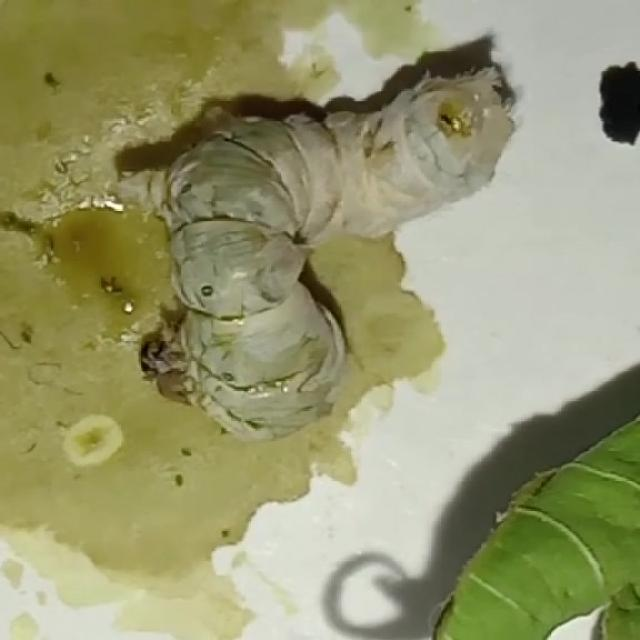Grasserie: (136, 34, 515, 456)
